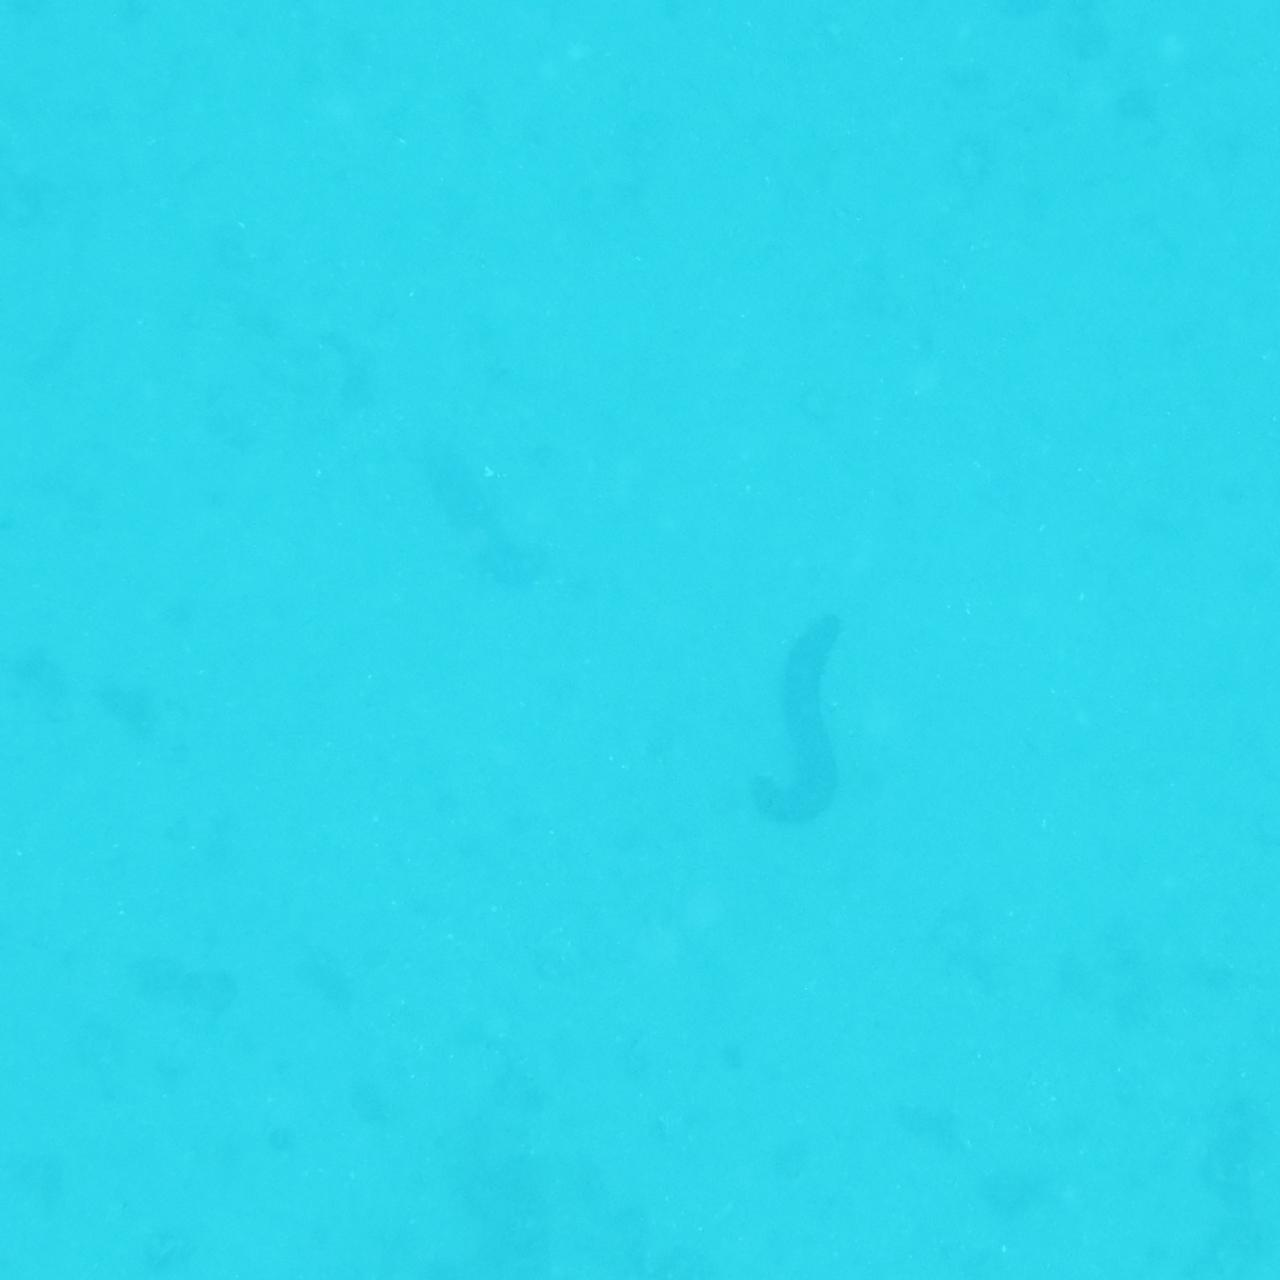Holothuria tubulosa: (747, 594, 859, 867), (395, 469, 559, 629)
